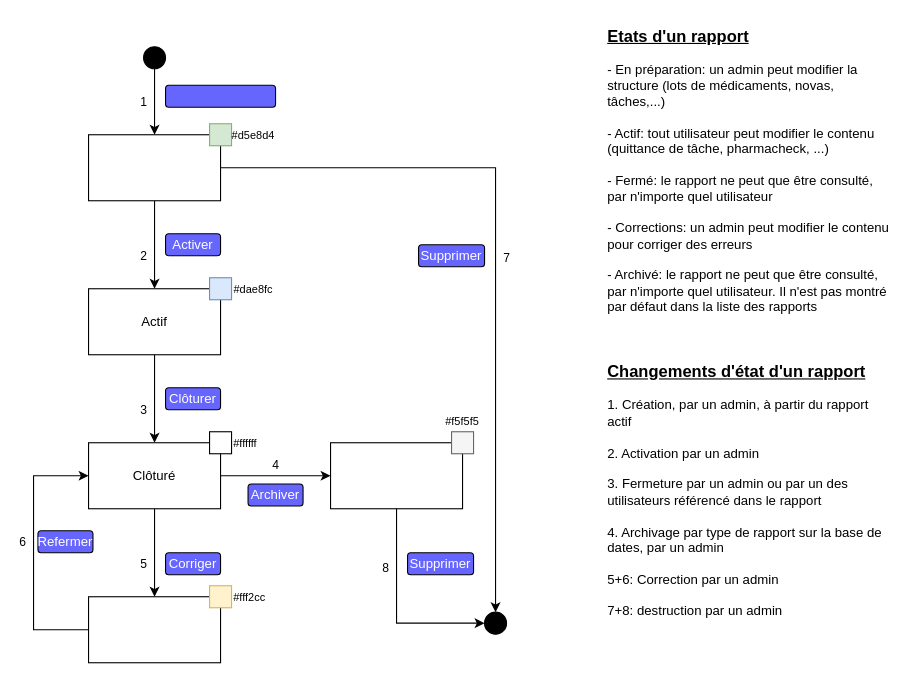
The diagram is 910 pixels wide and 682 high, and some of its shapes have lost their labels. The shapes that lost their labels are listed below. From the top down, each one's box as (x1, y1, x2, y2) in pixels, then its label:
(164, 84, 276, 107): Nouveau rapport
(87, 134, 221, 201): En préparation
(329, 442, 463, 509): Archivé
(87, 596, 221, 663): Corrections
